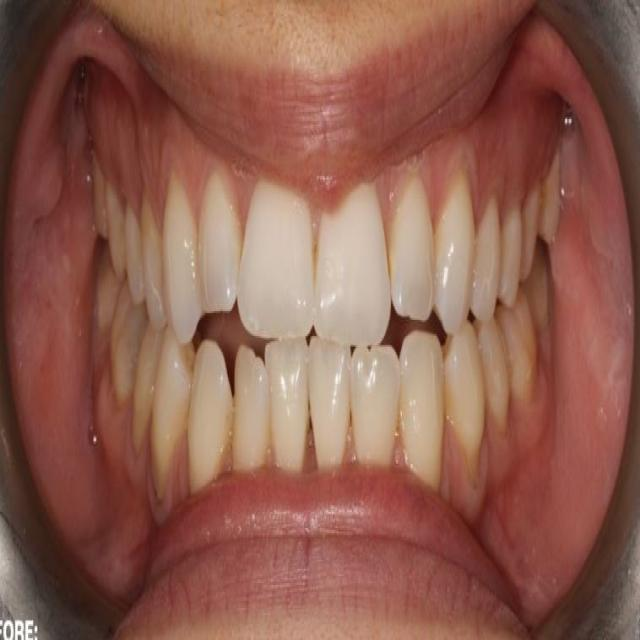1st Molar: (495, 294, 539, 401), (111, 290, 145, 407), (105, 183, 125, 274), (521, 192, 538, 277)
1st Premolar: (152, 334, 192, 488), (444, 322, 486, 462), (470, 201, 502, 325), (141, 203, 164, 331)
2nd Molar: (95, 249, 122, 338), (539, 153, 562, 249), (523, 254, 550, 328), (92, 160, 107, 241)
2nd Premolar: (132, 325, 161, 444), (479, 322, 511, 428), (498, 210, 525, 309), (123, 210, 145, 302)
Canine: (400, 330, 446, 489), (189, 338, 233, 494), (435, 176, 475, 338), (163, 176, 199, 348)
Central Incisor: (237, 175, 316, 340), (315, 181, 389, 347), (266, 338, 310, 475), (309, 340, 354, 471)
Lateral Incisor: (390, 175, 436, 322), (197, 169, 242, 316), (353, 345, 402, 466), (233, 344, 271, 473)
